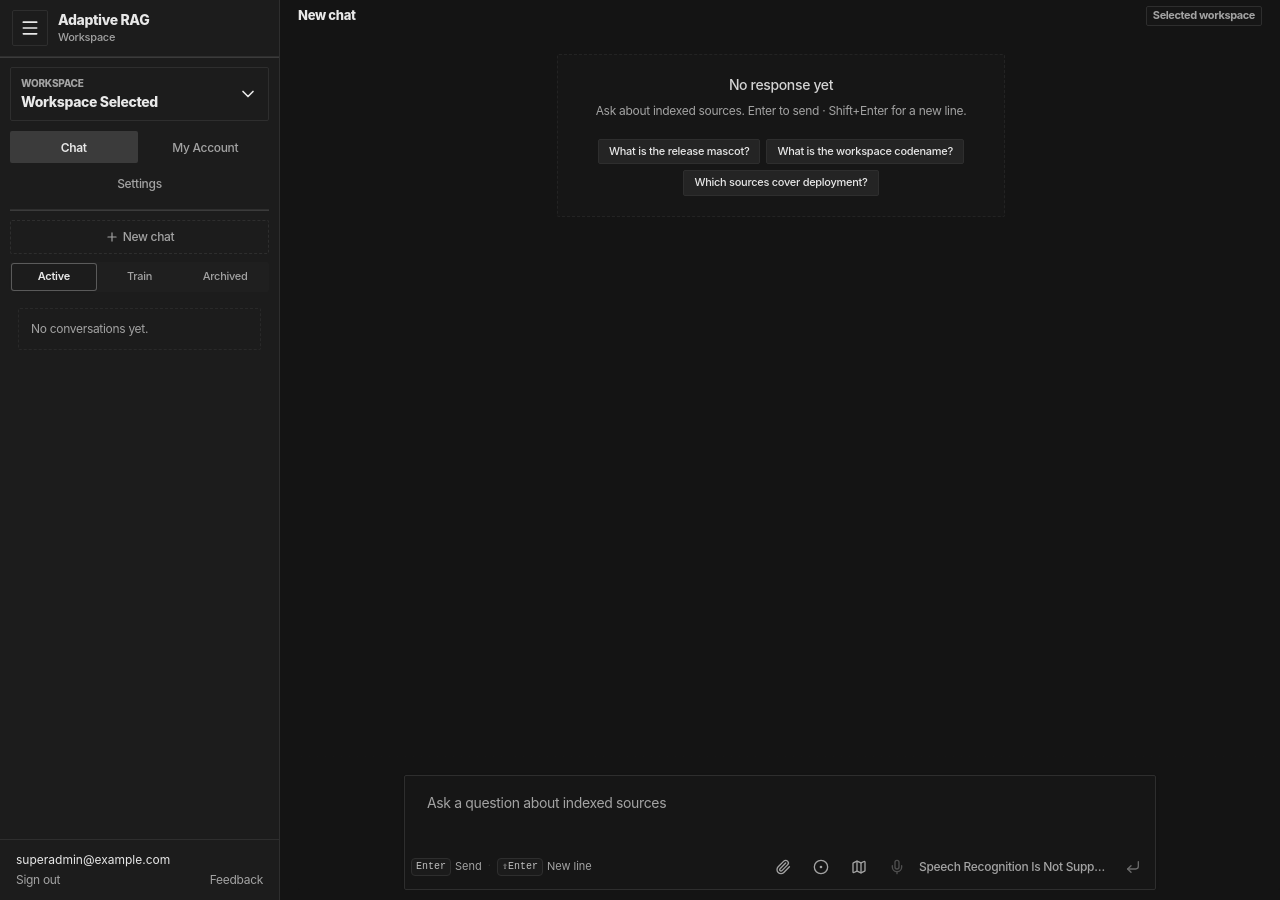
Test: App chat workspace › renders the workspace selector popover through Radix state and portal primitives
Click the button with aria-label "Workspace selector": (140, 94) 10,67 -> 269,121
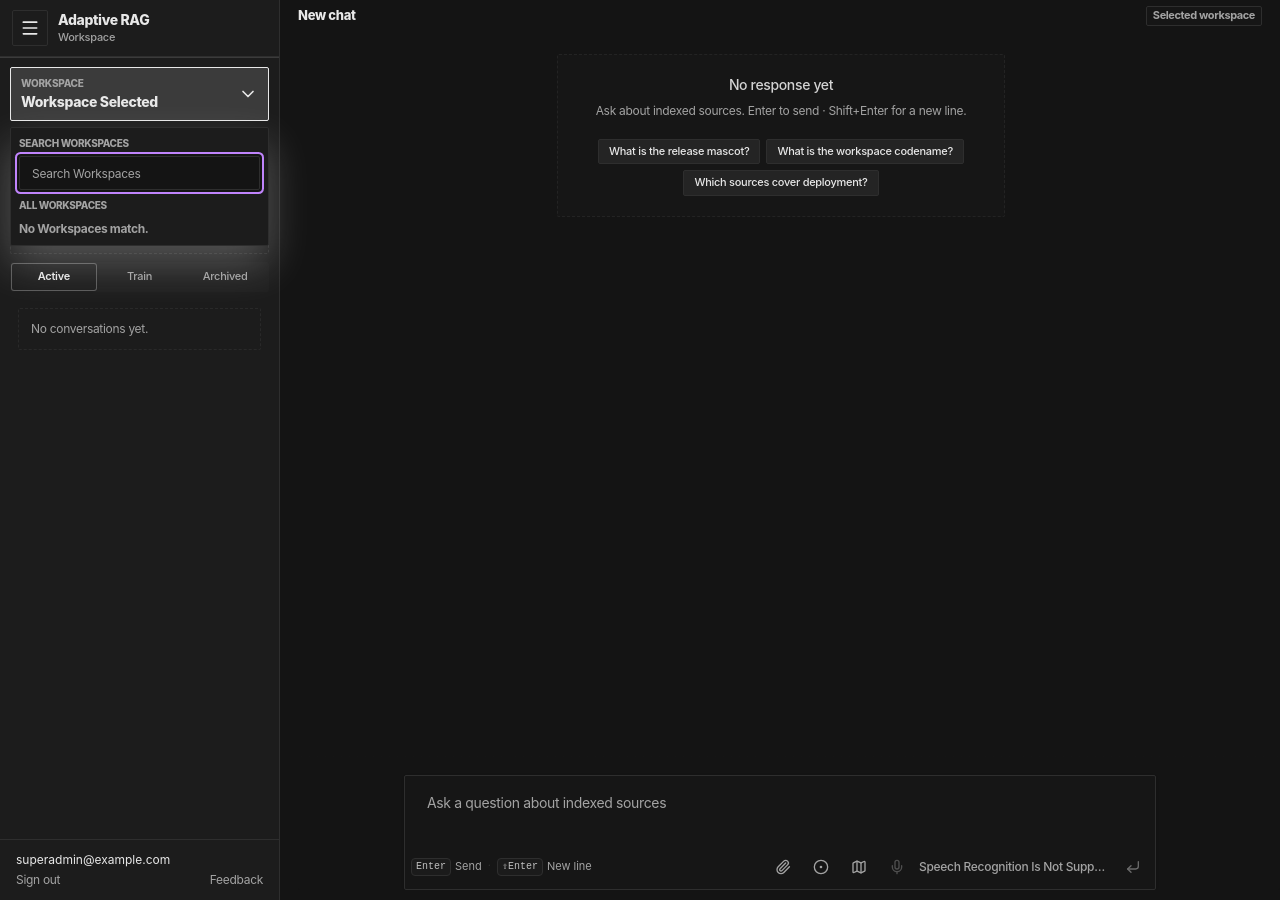
Check: the dialog "Workspaces" is shown, box 10,127 -> 269,246
